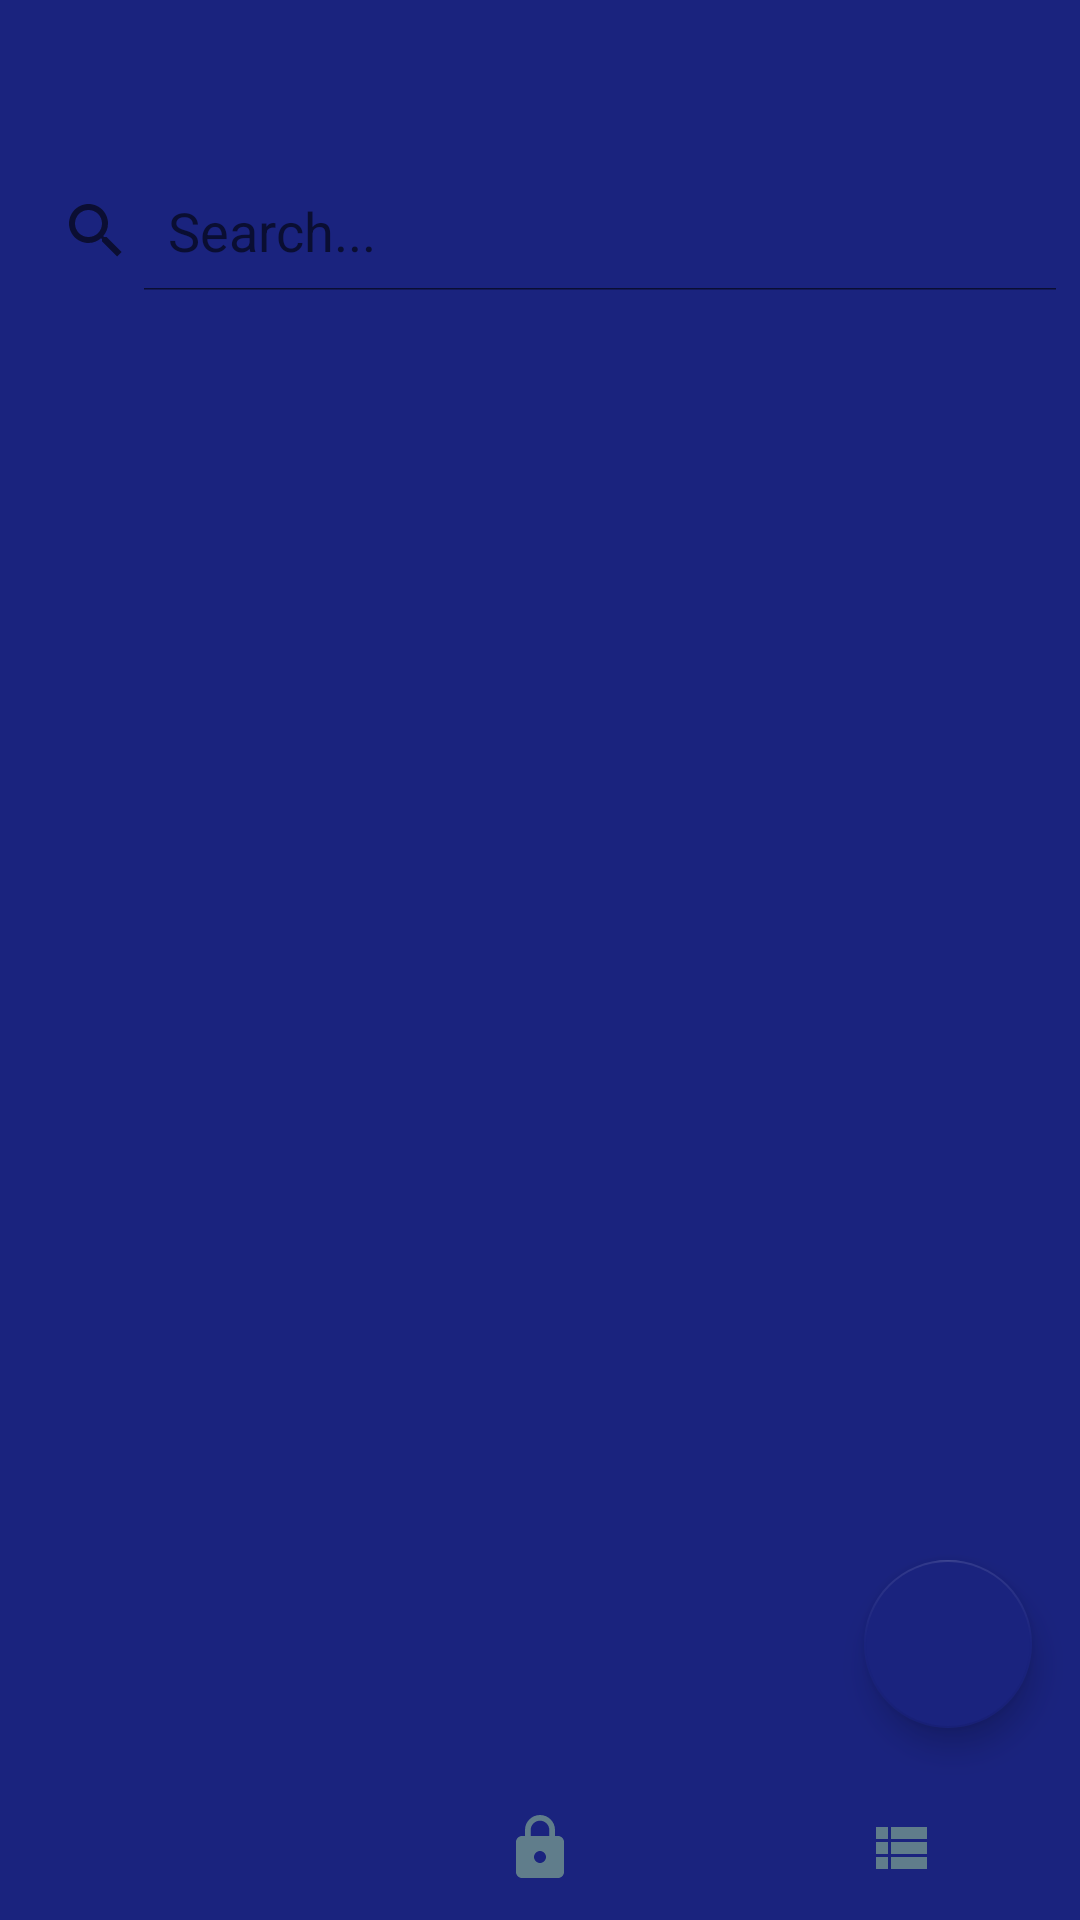

Where icons sit on this 1080 x 1920 app screen, as (x1, y1, x2, y2):
lock: (516, 1815, 564, 1878)
view list: (876, 1827, 927, 1869)
